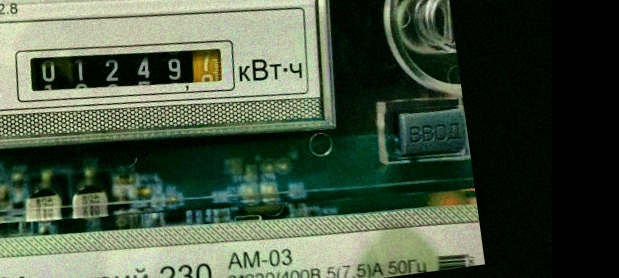0: (38, 56, 58, 84)
1: (70, 55, 88, 83)
2: (101, 57, 121, 85)
4: (134, 53, 153, 80)
7: (197, 46, 215, 74)
9: (163, 54, 183, 82)
screen: (10, 20, 241, 122)
